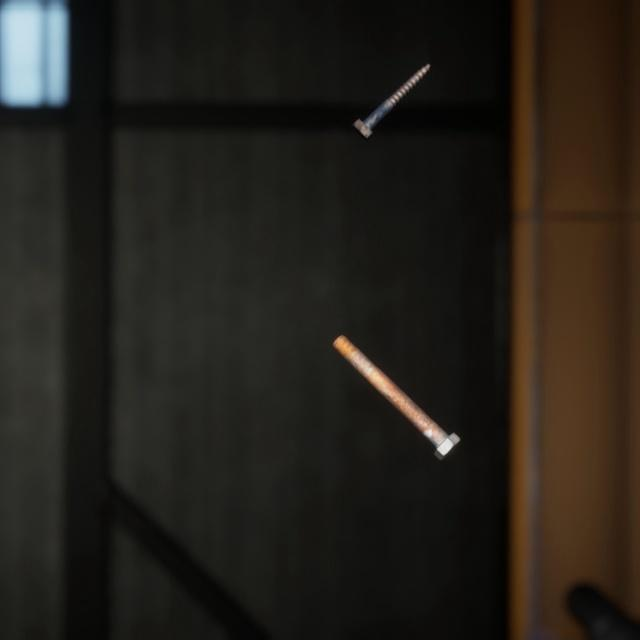bolt: (328, 312, 464, 445), (348, 49, 435, 133)
